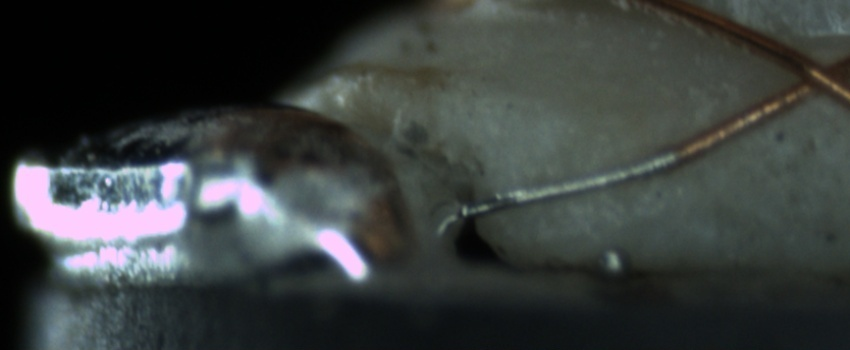CL: (767, 39, 847, 110)
TS: (465, 143, 683, 219)
TTCW: (467, 125, 725, 218)
